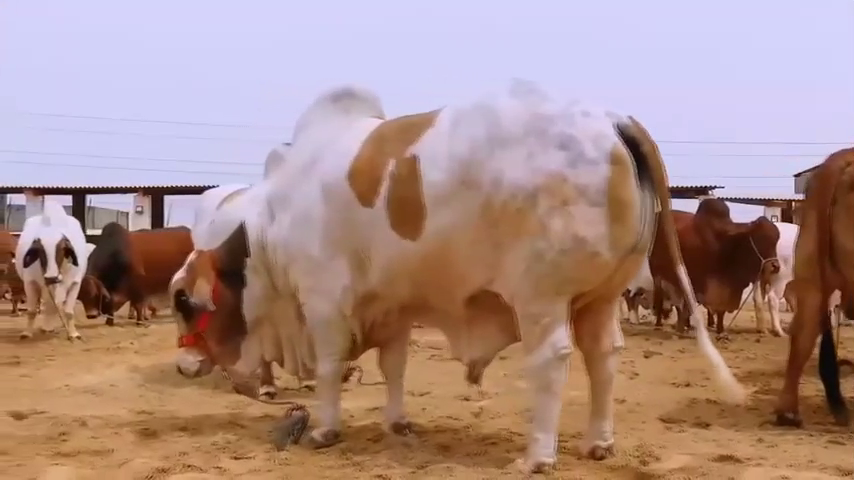bo: (144, 57, 755, 479), (762, 118, 854, 448), (59, 176, 208, 335), (642, 181, 782, 341), (745, 204, 846, 344), (15, 197, 88, 345)
